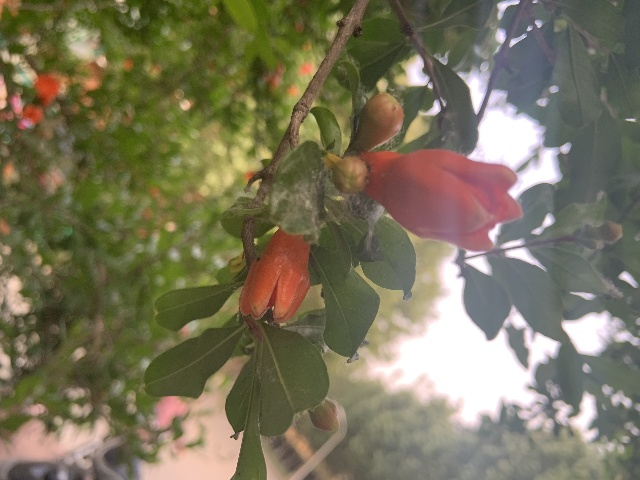bud: (354, 92, 403, 150), (333, 157, 367, 195), (307, 398, 341, 433)
flower: (360, 147, 523, 251), (238, 227, 311, 323)
